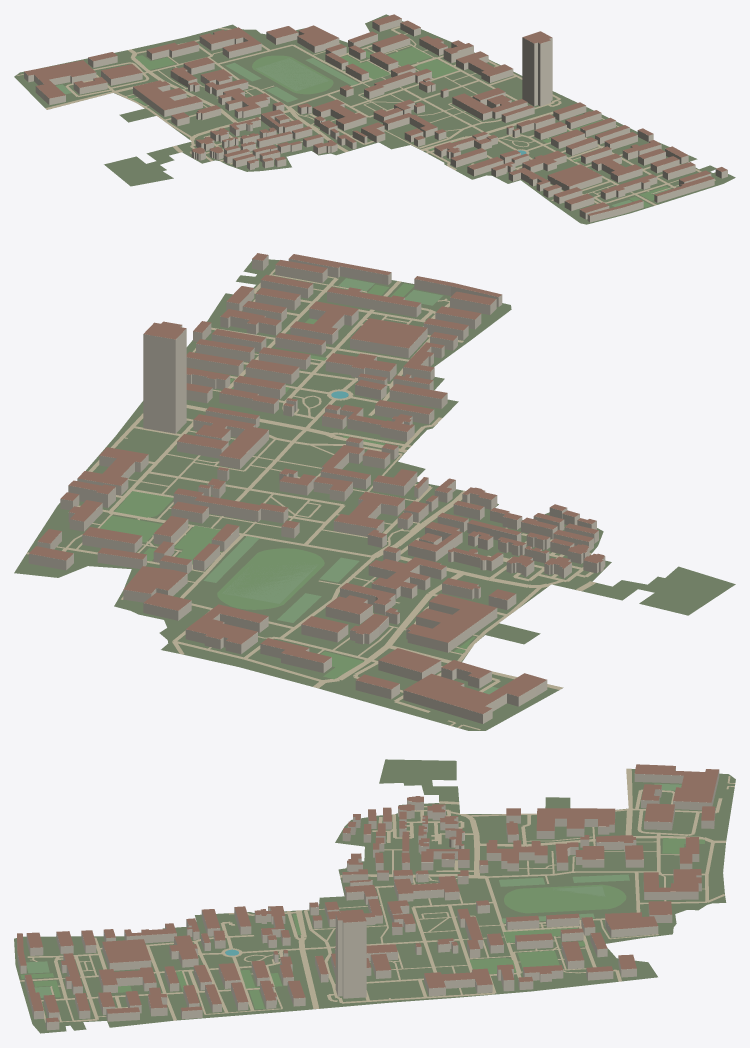
3 renders of one model, top to bottom at view 1: azimuth 30°, elevation 25°; view 2: azimuth 150°, elevation 25°; view 3: azimuth 270°, elevation 25°, orthographic. The views are drawn at different scales.
Visible parts, largest first — view 1: buildings, campus-ground, roofs, environment (×3); view 2: buildings, campus-ground, roofs, environment (×3); view 3: campus-ground, roofs, buildings, environment (×3).
Boxes of the visible parts, x1=… form: buildings: x1=24, y1=18, x2=727, y2=222; campus-ground: x1=14, y1=14, x2=735, y2=224; roofs: x1=24, y1=14, x2=727, y2=215; environment (×3): x1=17, y1=26, x2=715, y2=207; buildings: x1=28, y1=255, x2=605, y2=723; campus-ground: x1=14, y1=259, x2=735, y2=730; roofs: x1=29, y1=253, x2=604, y2=713; environment (×3): x1=26, y1=269, x2=595, y2=730; campus-ground: x1=14, y1=759, x2=735, y2=1033; roofs: x1=17, y1=764, x2=718, y2=1022; buildings: x1=17, y1=767, x2=719, y2=1030; environment (×3): x1=19, y1=768, x2=735, y2=1022.
Size of the model in its own units: 878 by 114 by 977.
